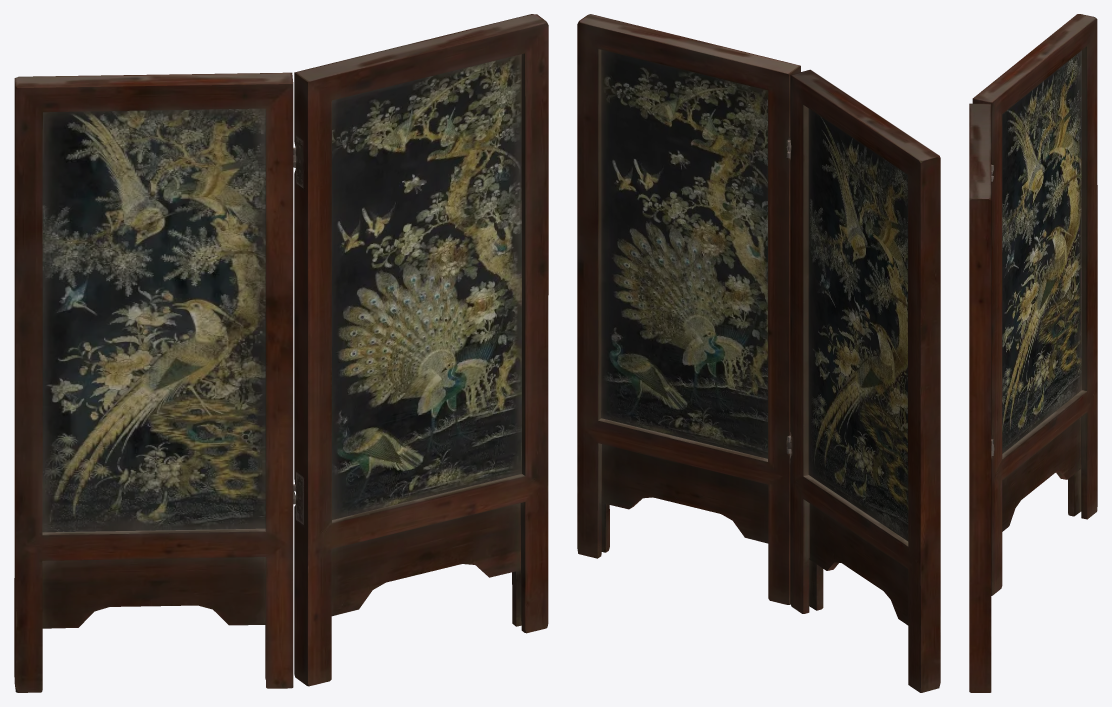
File: chinese_screen_panels.glb
3 renders of one model, left to right at view 1: azimuth 30°, elevation 25°; view 2: azimuth 150°, elevation 25°; view 3: azimuth 270°, elevation 25°, orthographic. The views are drawn at different scales.
Parts seen in each view (by area): view 1: chinese_screen_panels_a; view 2: chinese_screen_panels_a; view 3: chinese_screen_panels_a.
Part boxes in pixels (<box>): chinese_screen_panels_a: <box>14,14,548,692</box>; chinese_screen_panels_a: <box>577,14,940,692</box>; chinese_screen_panels_a: <box>969,14,1097,692</box>.
Size of the model in its own units: 1.29 by 1.6 by 0.3769.
Materials: 1 (1 with a texture image).
